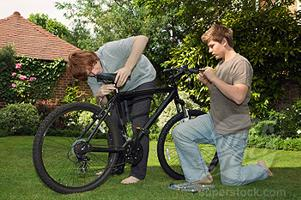person: (65, 34, 160, 183)
